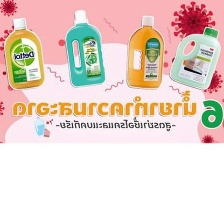cleaning_solution: (62, 7, 107, 90), (168, 24, 222, 93), (0, 16, 48, 92), (122, 14, 168, 91)
